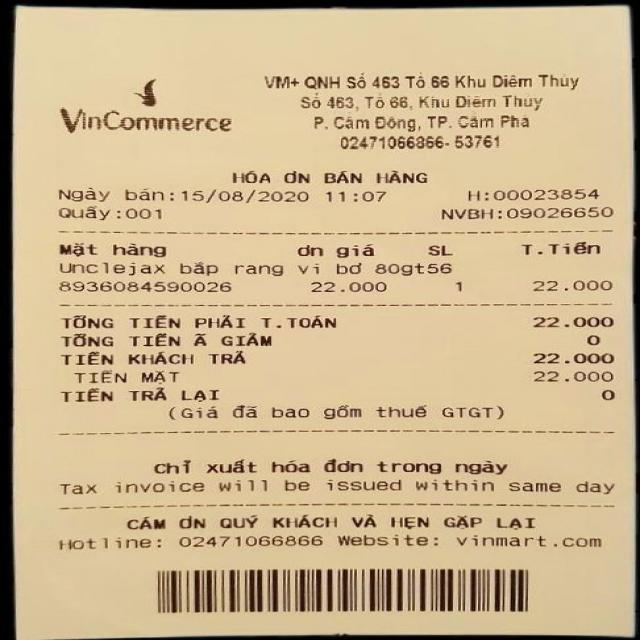Date: (180, 186, 310, 204)
Store_Name: (56, 100, 239, 138)
amount_number: (530, 312, 616, 331)
label_total: (61, 313, 342, 331)
